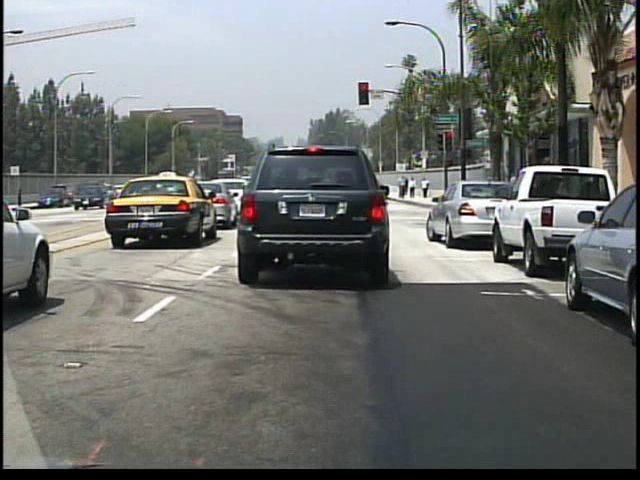person: (421, 175, 431, 200), (398, 175, 407, 199), (409, 175, 417, 199)
